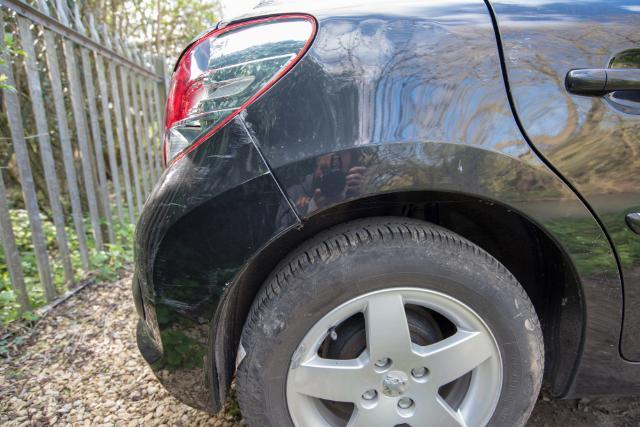dent: (311, 16, 451, 83)
lamp broken: (162, 15, 316, 165)
scratch: (193, 114, 258, 182)
